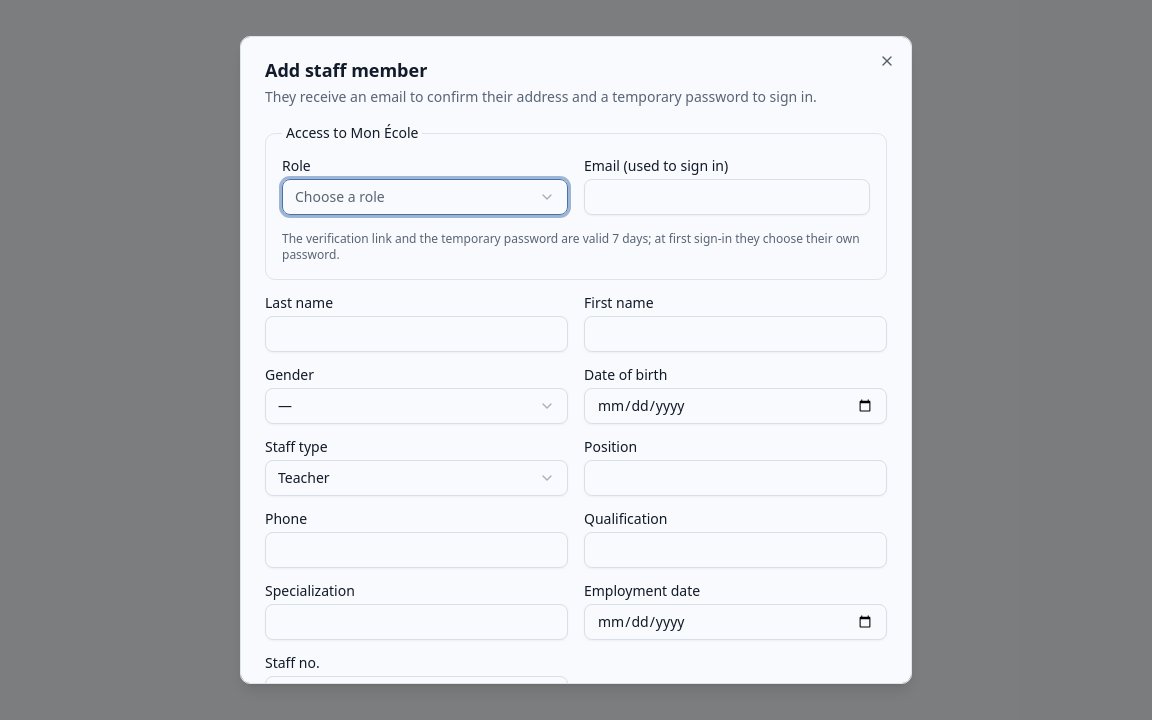
Scenario: StaffFormDialog (adding someone) › requires the email and role that the invitation needs
In the field labelled "Last name": (416, 334) left=265, top=316, right=568, bottom=352, type "Sylla"
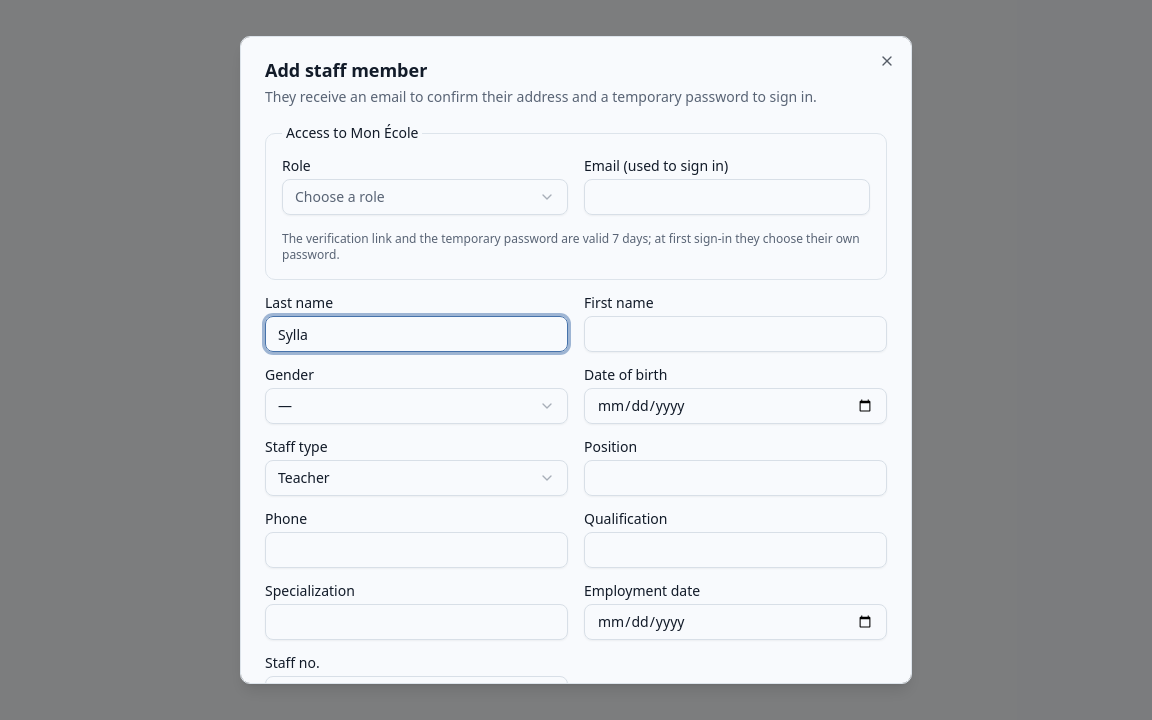
In the field labelled "First name": (736, 334) left=584, top=316, right=887, bottom=352, type "Kadiatou"
(page scrolled)
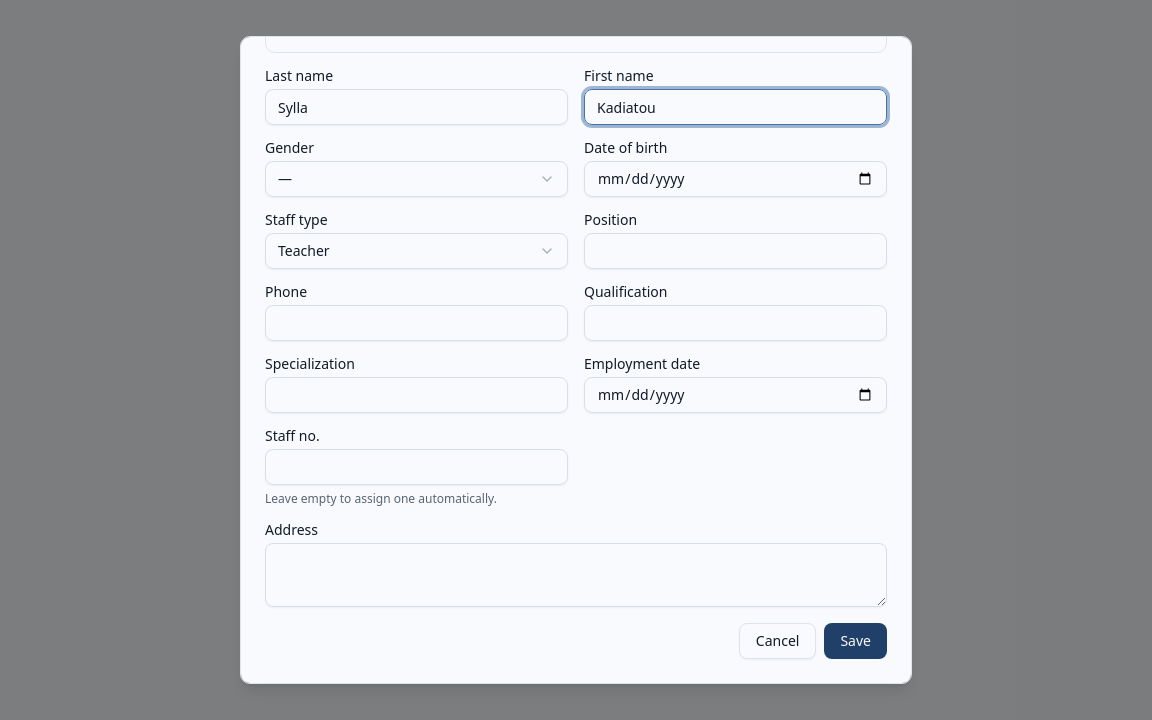
Click the button "Save": (856, 641) left=824, top=623, right=887, bottom=659
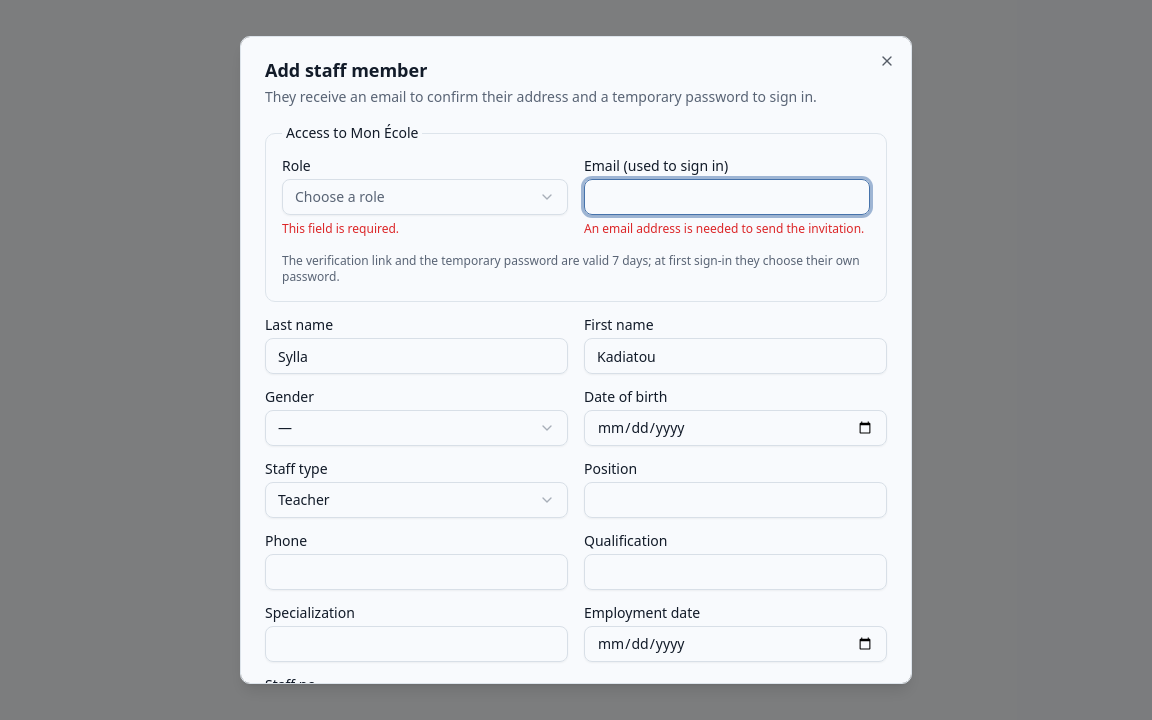
Result: the text "An email address is needed to send the invitation." is shown at left=584, top=221, right=870, bottom=237
